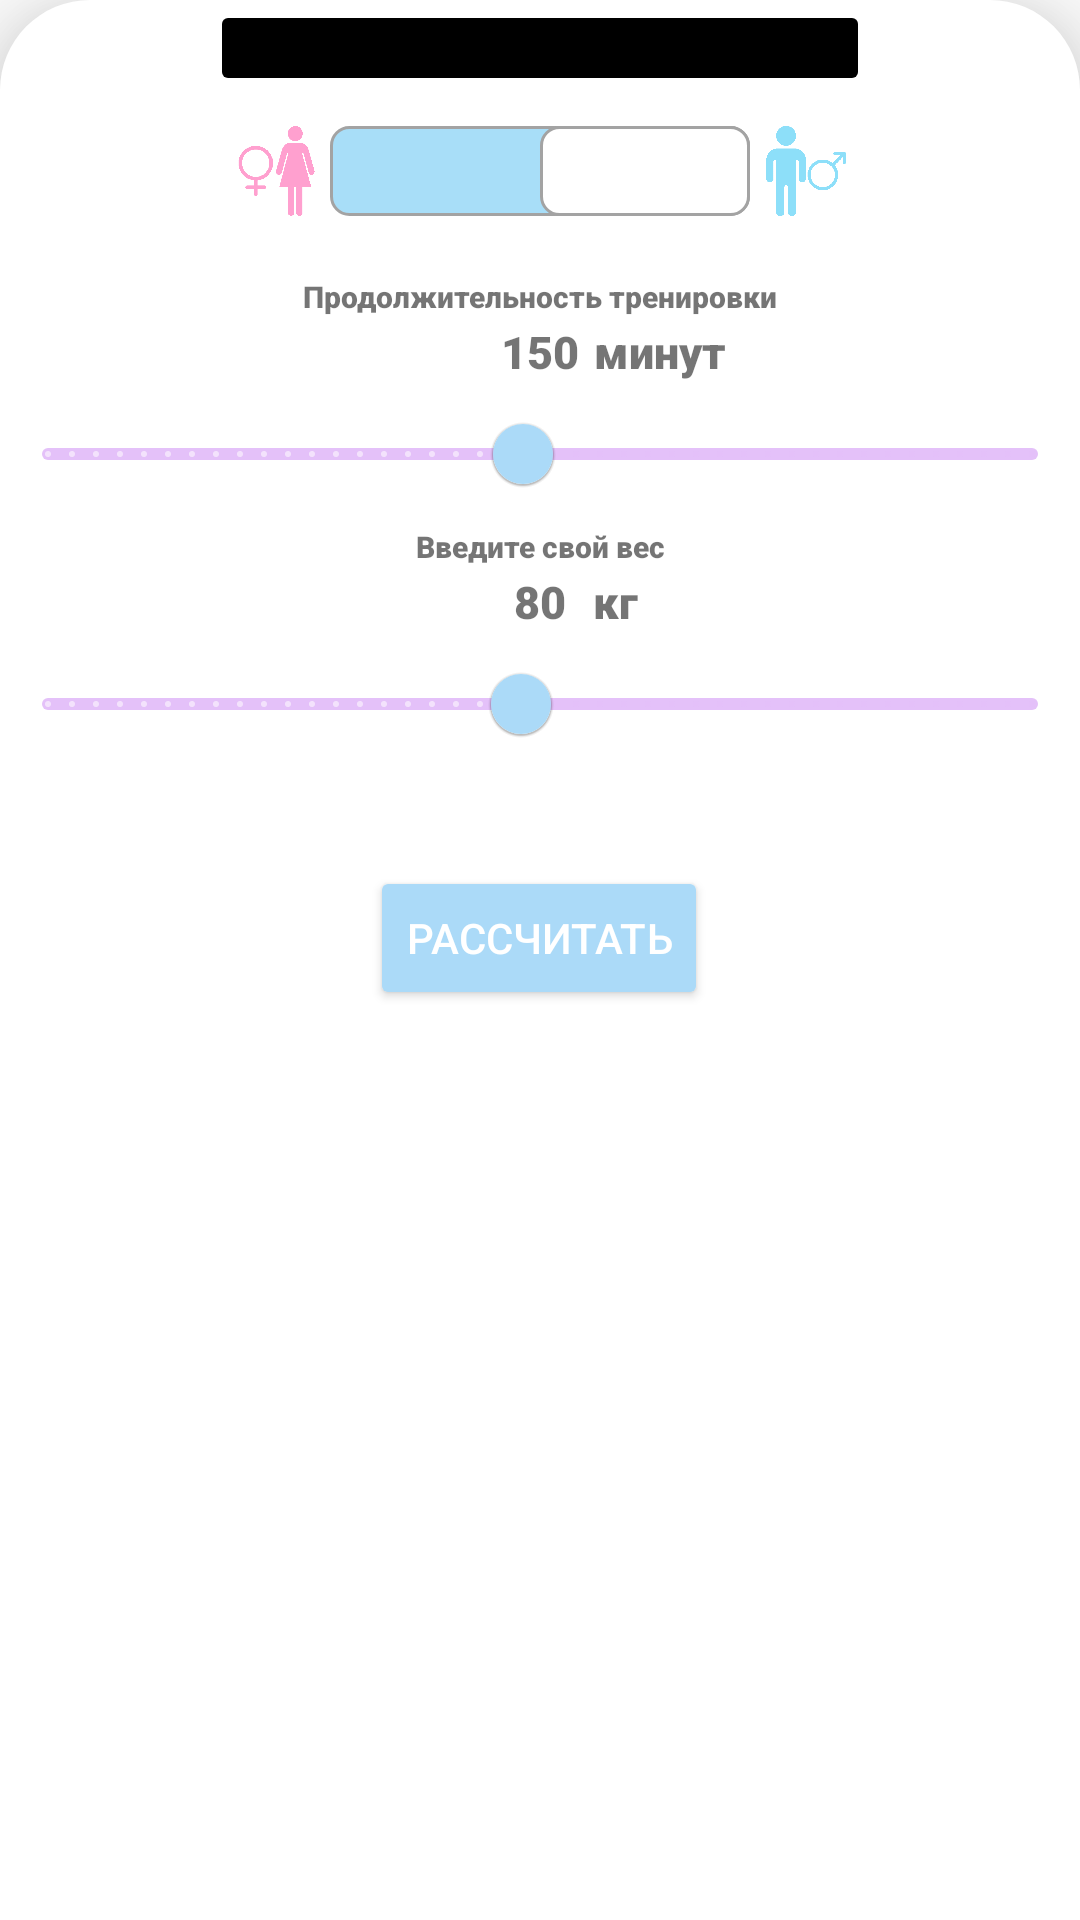

Icons on this 1080*1920 Android screen, each with the point to tap as (x=x, y=y):
female: (x=277, y=171)
male: (x=806, y=171)
